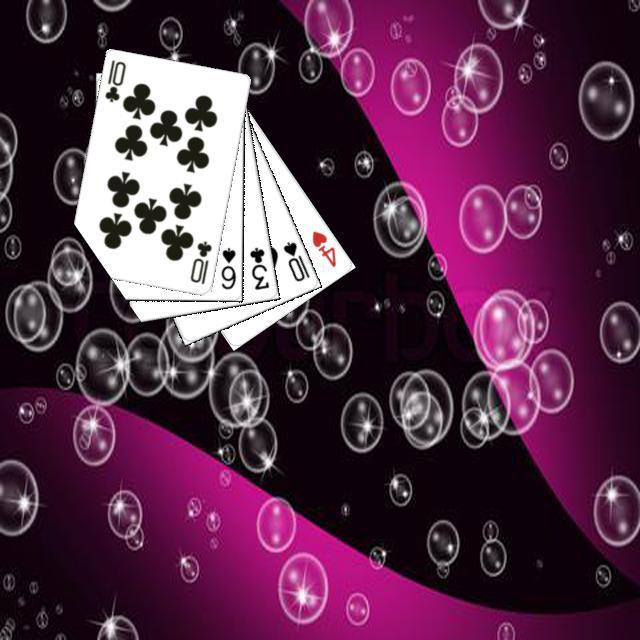10c: (185, 236, 213, 286), (100, 55, 127, 104)
10s: (278, 237, 311, 283)
3c: (245, 242, 271, 291)
4h: (307, 226, 338, 269)
6s: (216, 243, 237, 291)
